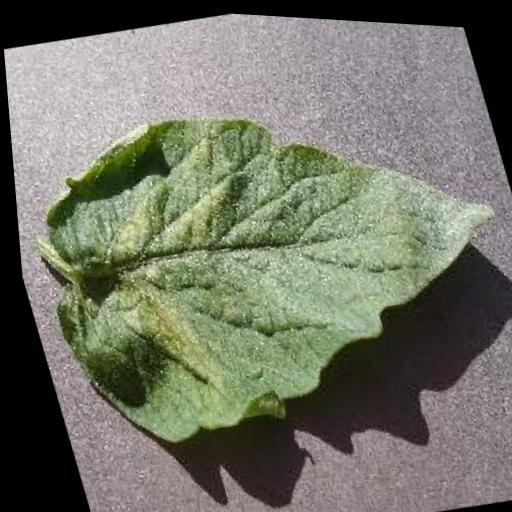Spider Mites: (3, 49, 512, 472)
